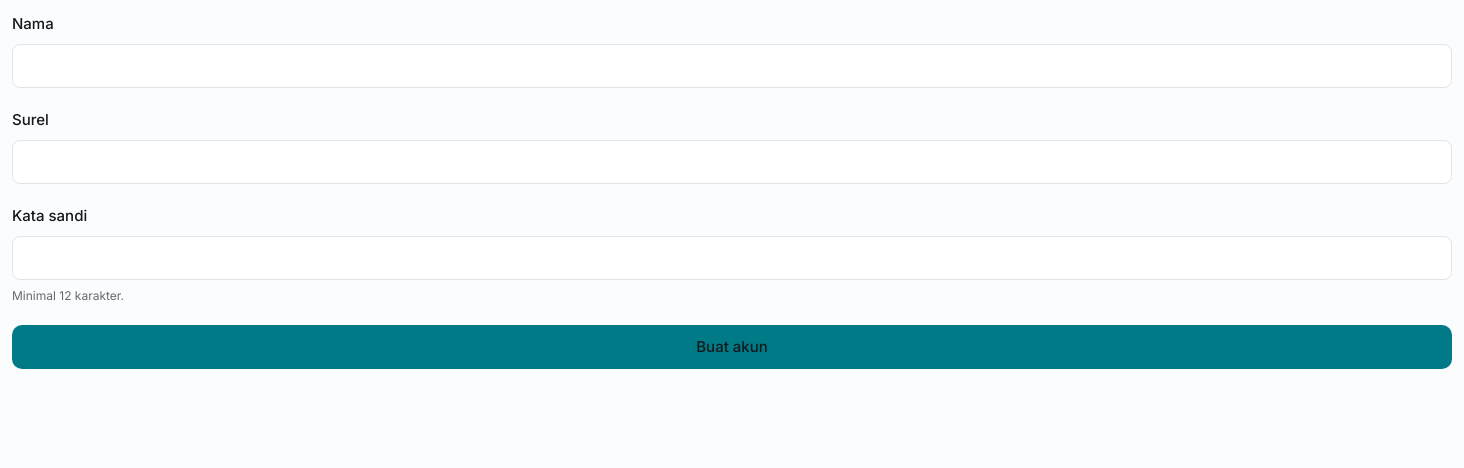
Test: kegagalan dari server › menampilkan pesan yang dapat dibaca, bukan kode galat
Type "Budi" into the field labelled "Nama". click: (732, 66)
box: [12,44,1452,88]
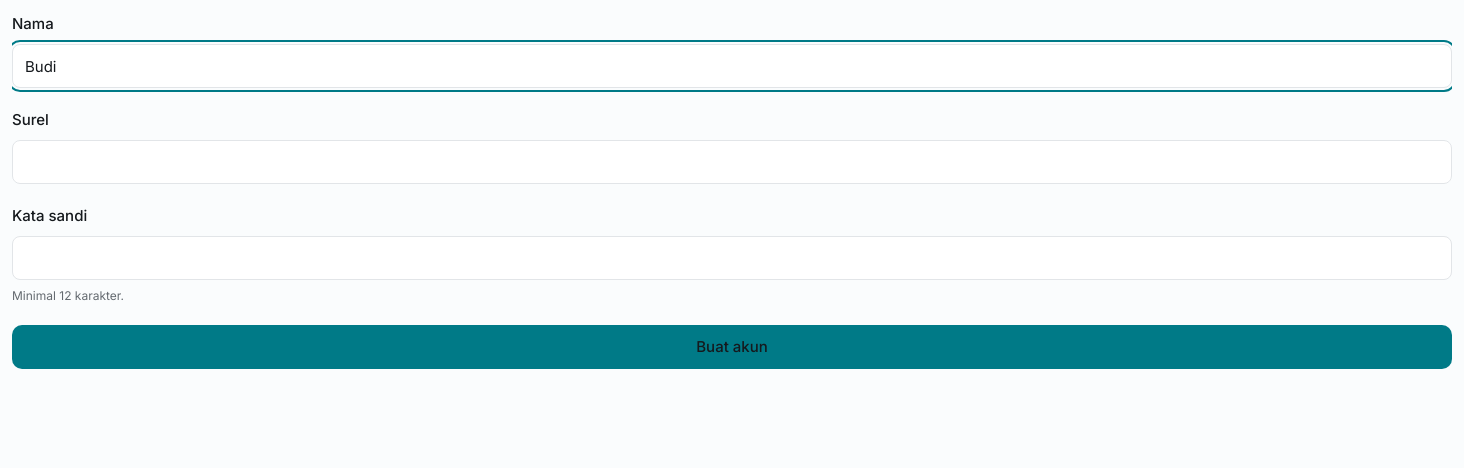
Type "budi@example.com" into the field labelled "Surel". click: (732, 162)
box: [12,140,1452,184]
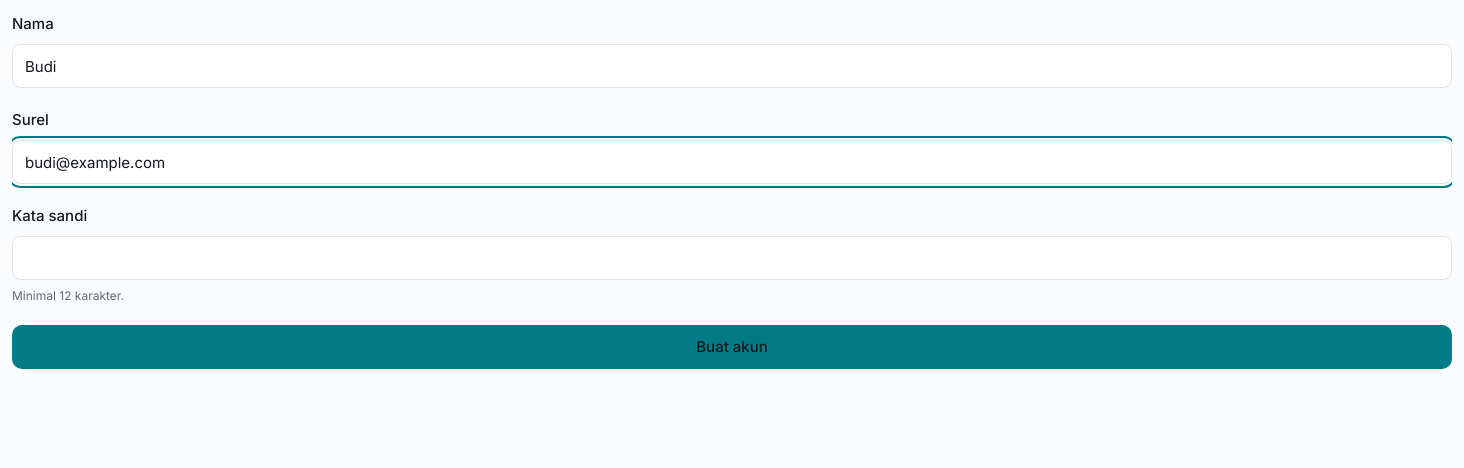
Type "kataSandiPanjangAman" into the password field labelled "Kata sandi". click: (732, 258)
box: [12,236,1452,280]
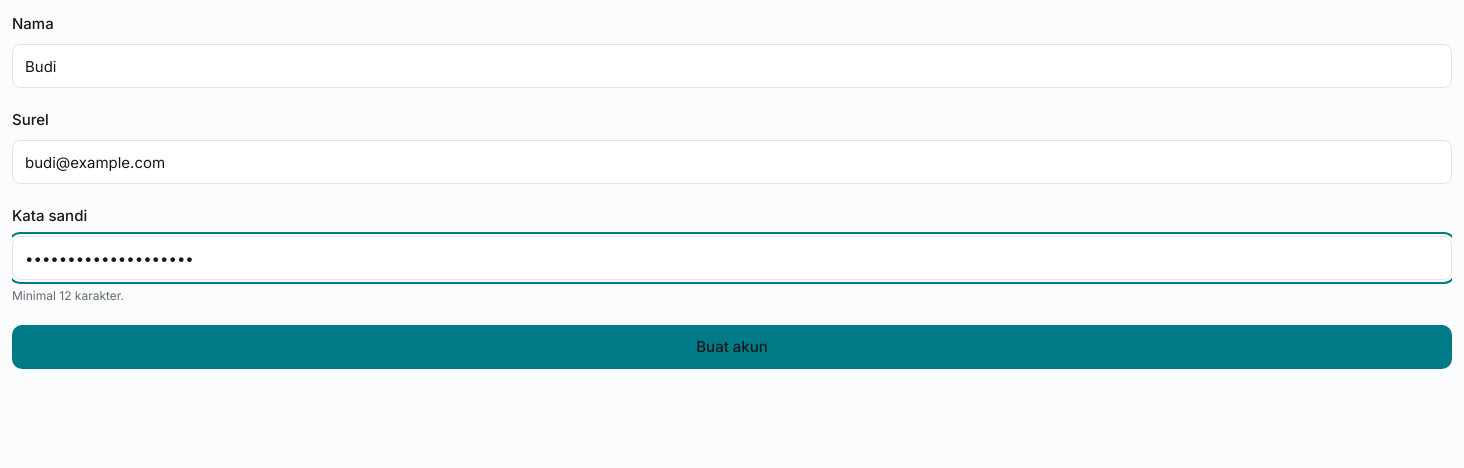
Click the button "Buat akun". click: (732, 347)
box: [12,325,1452,369]
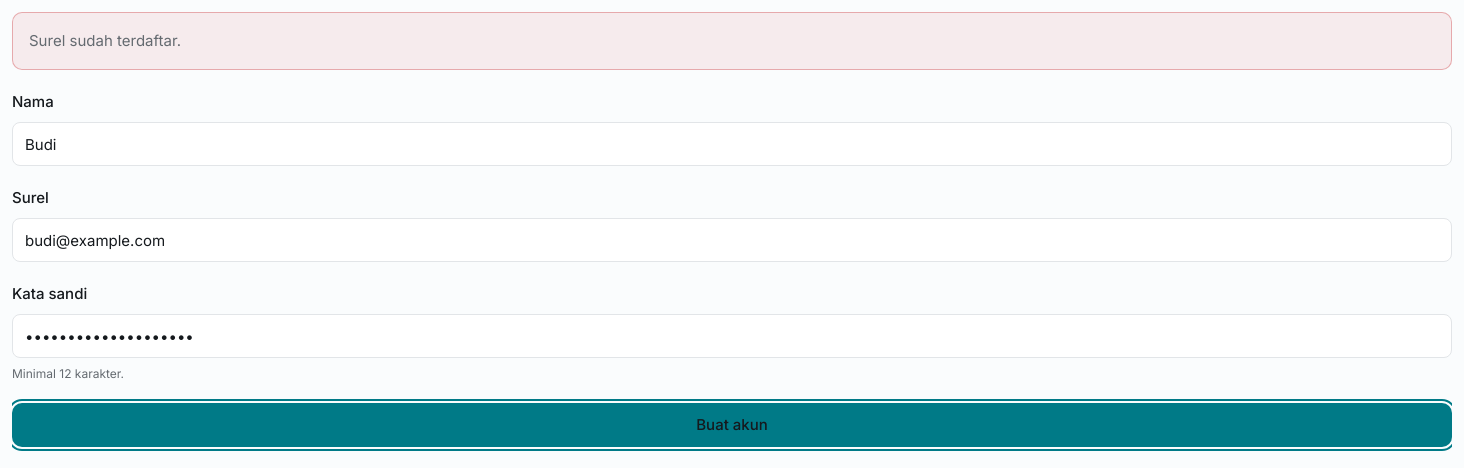
Expected: the message reads "Surel sudah terdaftar.", [29,31,181,50]
